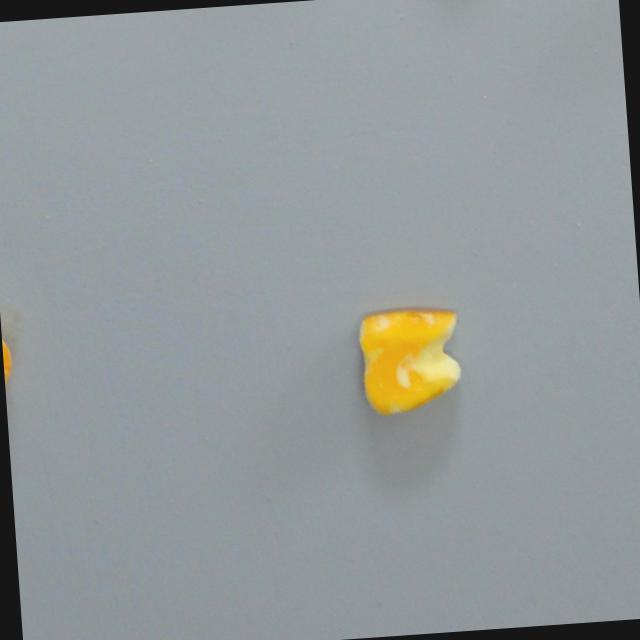pelicula: (355, 304, 466, 419)
